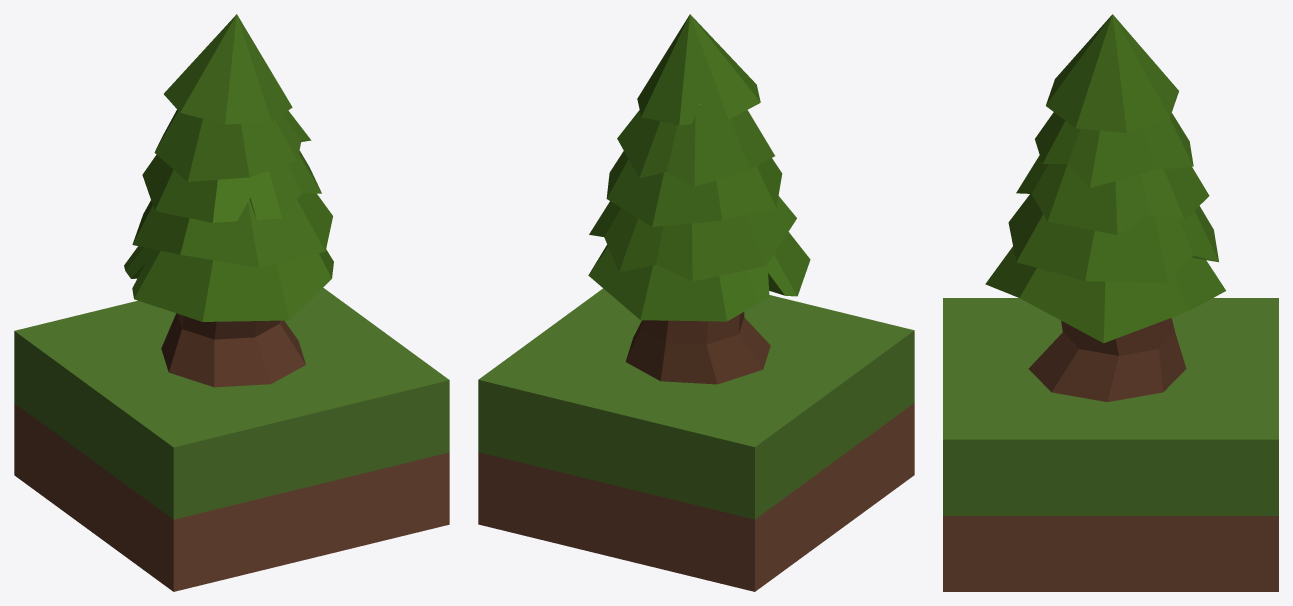
File: Tree3.fbx
The picture shows the model from 3 angles, left to right: view 1: azimuth 30°, elevation 25°; view 2: azimuth 150°, elevation 25°; view 3: azimuth 270°, elevation 25°; orthographic projection. The views are drawn at different scales.
Parts seen in each view (by area): view 1: !Empty, Tree3CylinderPart1, Tree3CylinderPart2, Tree3CylinderBase, Tree3CylinderPart5, Tree3CylinderPart4, Tree3CylinderPart3; view 2: !Empty, Tree3CylinderPart2, Tree3CylinderPart1, Tree3CylinderPart4, Tree3CylinderPart5, Tree3CylinderPart3, Tree3CylinderBase; view 3: !Empty, Tree3CylinderPart2, Tree3CylinderPart1, Tree3CylinderPart5, Tree3CylinderBase, Tree3CylinderPart3, Tree3CylinderPart4.
Part boxes in pixels (<box>): !Empty: <box>14,287,449,591</box>; Tree3CylinderPart1: <box>124,246,333,321</box>; Tree3CylinderPart2: <box>132,193,332,267</box>; Tree3CylinderBase: <box>161,313,305,387</box>; Tree3CylinderPart5: <box>164,14,292,124</box>; Tree3CylinderPart4: <box>154,109,311,181</box>; Tree3CylinderPart3: <box>142,150,321,222</box>; !Empty: <box>478,288,914,591</box>; Tree3CylinderPart2: <box>589,196,796,281</box>; Tree3CylinderPart1: <box>588,232,810,321</box>; Tree3CylinderPart4: <box>617,103,774,186</box>; Tree3CylinderPart5: <box>637,14,760,125</box>; Tree3CylinderPart3: <box>606,151,782,226</box>; Tree3CylinderBase: <box>625,312,770,384</box>; !Empty: <box>943,298,1278,591</box>; Tree3CylinderPart2: <box>1008,194,1218,283</box>; Tree3CylinderPart1: <box>985,246,1225,343</box>; Tree3CylinderPart5: <box>1046,14,1178,133</box>; Tree3CylinderBase: <box>1028,318,1186,402</box>; Tree3CylinderPart3: <box>1016,155,1209,234</box>; Tree3CylinderPart4: <box>1035,112,1193,187</box>.
Bounding box in the file's own units: 100 × 168 × 100.
